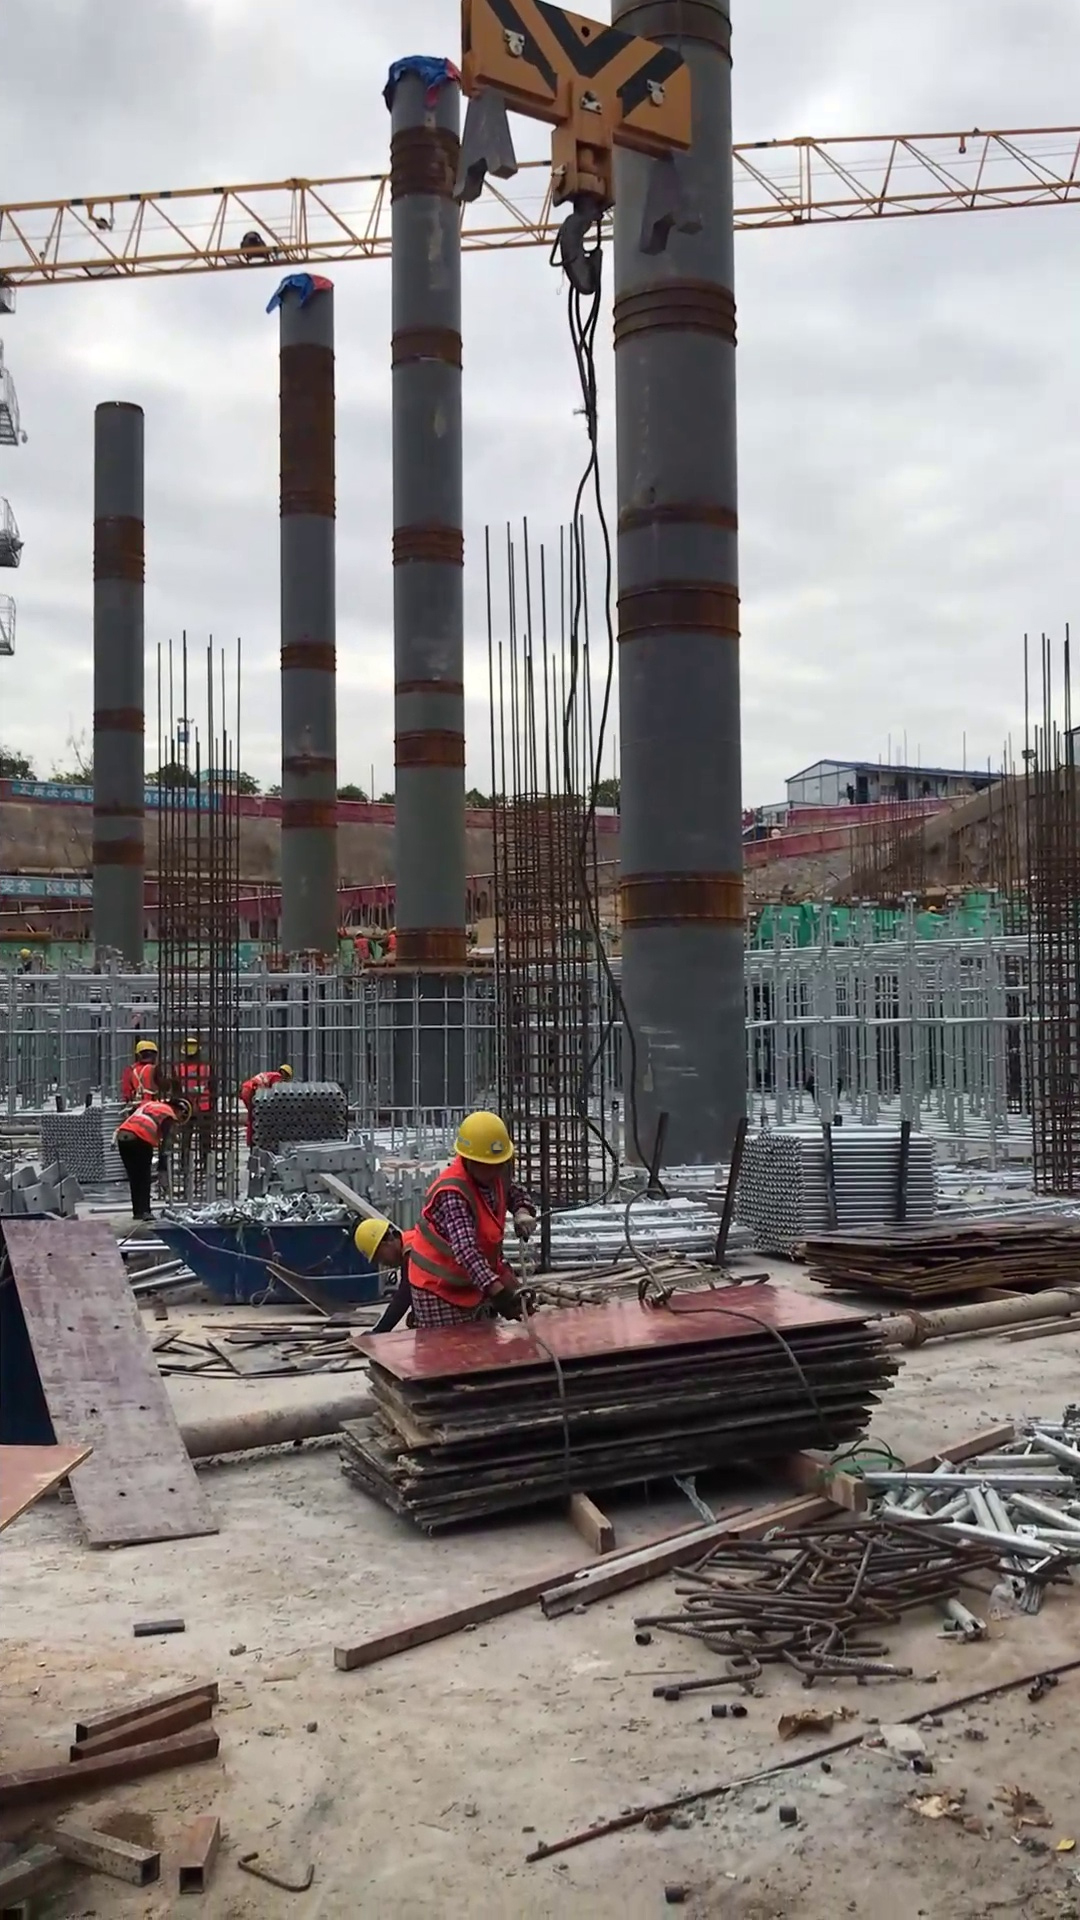board: (337, 1267, 911, 1544), (806, 1191, 1080, 1326)
helmet: (449, 1106, 517, 1167), (351, 1218, 395, 1266), (128, 1033, 159, 1061), (177, 1096, 197, 1130), (277, 1061, 295, 1084)
hook: (448, 1, 733, 308)
hopper: (168, 1220, 383, 1303)
person: (398, 1098, 540, 1343), (106, 1093, 200, 1223), (342, 1213, 416, 1351), (238, 1063, 299, 1154), (116, 1029, 167, 1117)
scaffold: (728, 1119, 945, 1260), (247, 1076, 352, 1161), (34, 1098, 128, 1189)
slogan: (1, 867, 95, 904), (1, 779, 102, 808)
vest: (410, 1157, 521, 1320), (112, 1098, 178, 1155), (120, 1059, 161, 1107), (242, 1067, 283, 1100)
